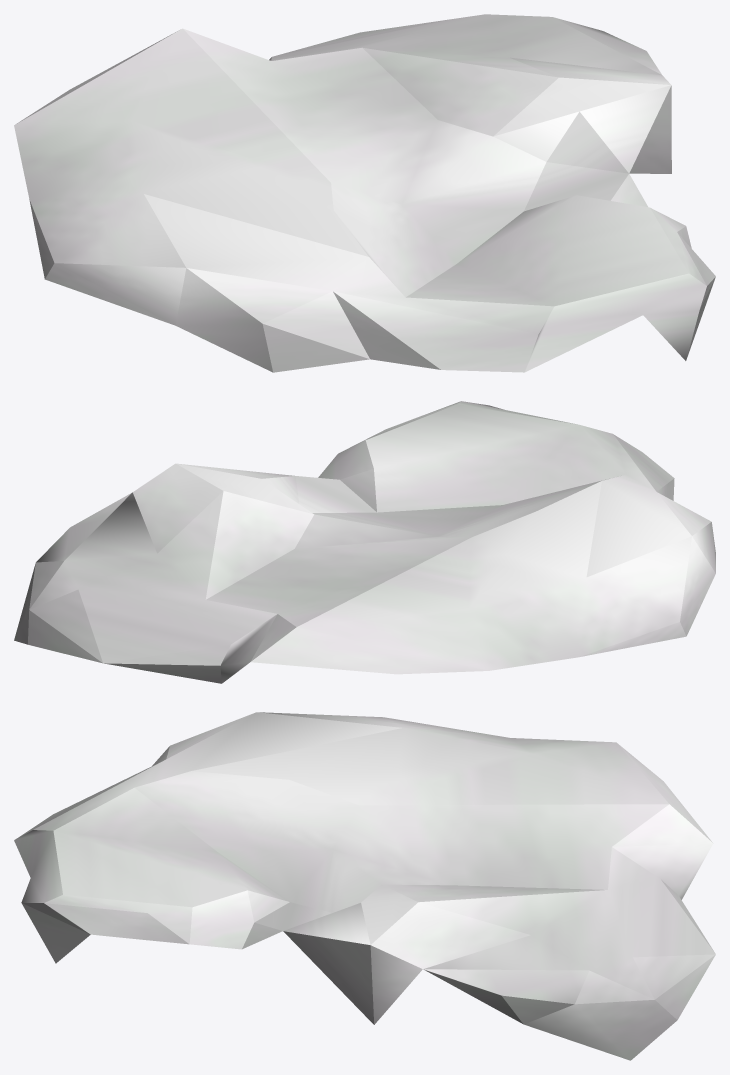
File: Terrain_Snow_1.fbx
3 renders of one model, top to bottom at view 1: azimuth 30°, elevation 25°; view 2: azimuth 150°, elevation 25°; view 3: azimuth 270°, elevation 25°, orthographic. The views are drawn at different scales.
Visible parts, largest first — view 1: terrain_bridge_snow_401_LOD1; view 2: terrain_bridge_snow_401_LOD1; view 3: terrain_bridge_snow_401_LOD1.
Boxes of the visible parts, left/top/right/bottom form: terrain_bridge_snow_401_LOD1: left=14, top=14, right=715, bottom=372; terrain_bridge_snow_401_LOD1: left=14, top=401, right=715, bottom=683; terrain_bridge_snow_401_LOD1: left=14, top=712, right=715, bottom=1060.
Bounding box in the file's own units: 857 × 147 × 897.
1 material, 1 textured.
